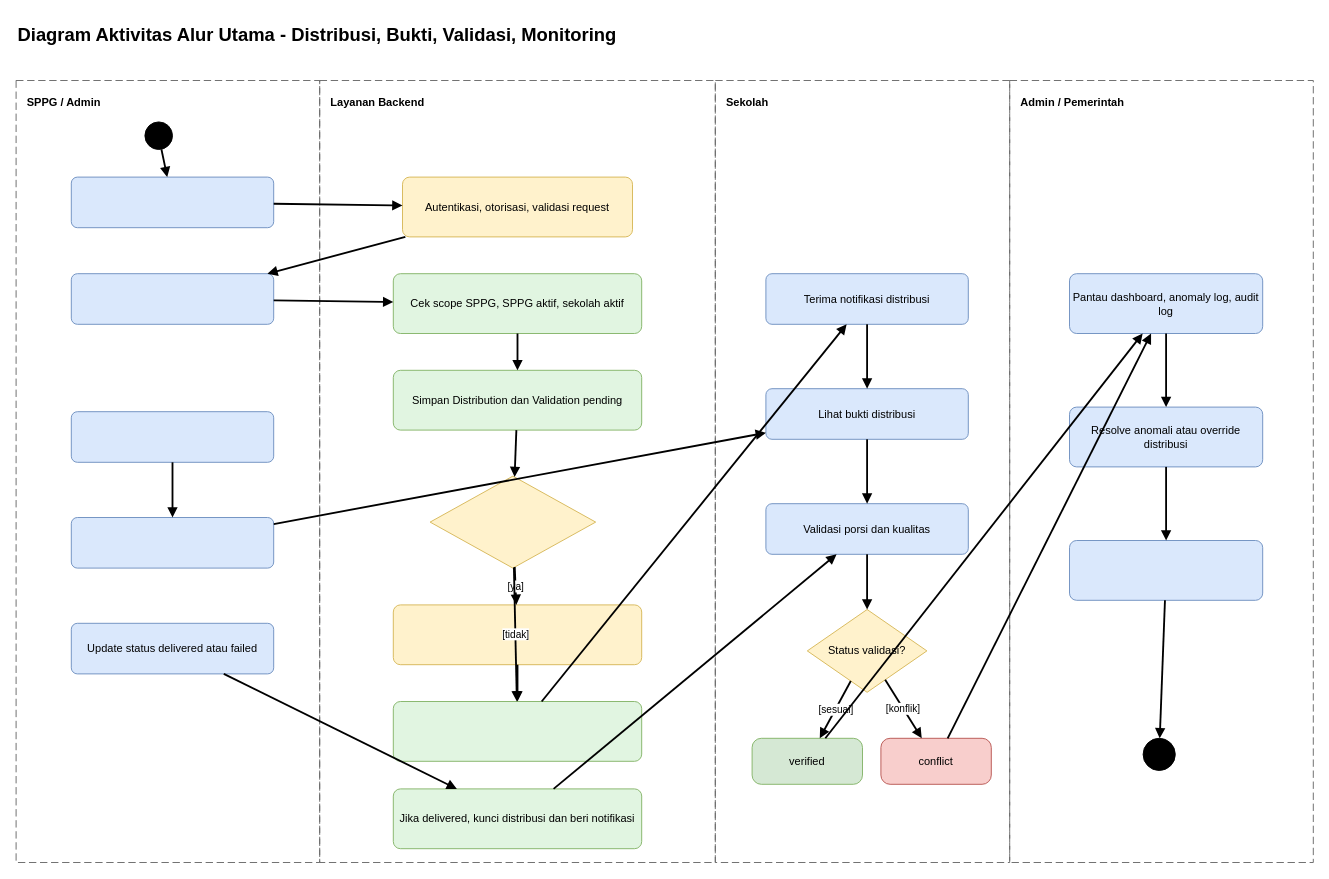
Image size: 1329x879. Some labels were removed from this diagram. The box of each missing label's shape, as (x1, y1, x2, y2) in pixels:
Anomali kapasitas atau harga?: (429, 475, 596, 568)
Buat AnomalyLog, AuditLog, Notification: (392, 604, 642, 665)
Buat distribusi: (70, 273, 274, 324)
Buat ekspor PDF/Excel: (1069, 540, 1263, 600)
Buat Proof untuk distribusi: (70, 517, 274, 568)
Kirim notifikasi distribusi baru ke sekolah: (392, 701, 642, 761)
Login dan pilih sekolah tujuan: (70, 176, 274, 228)
Unggah file bukti: (70, 411, 274, 462)
